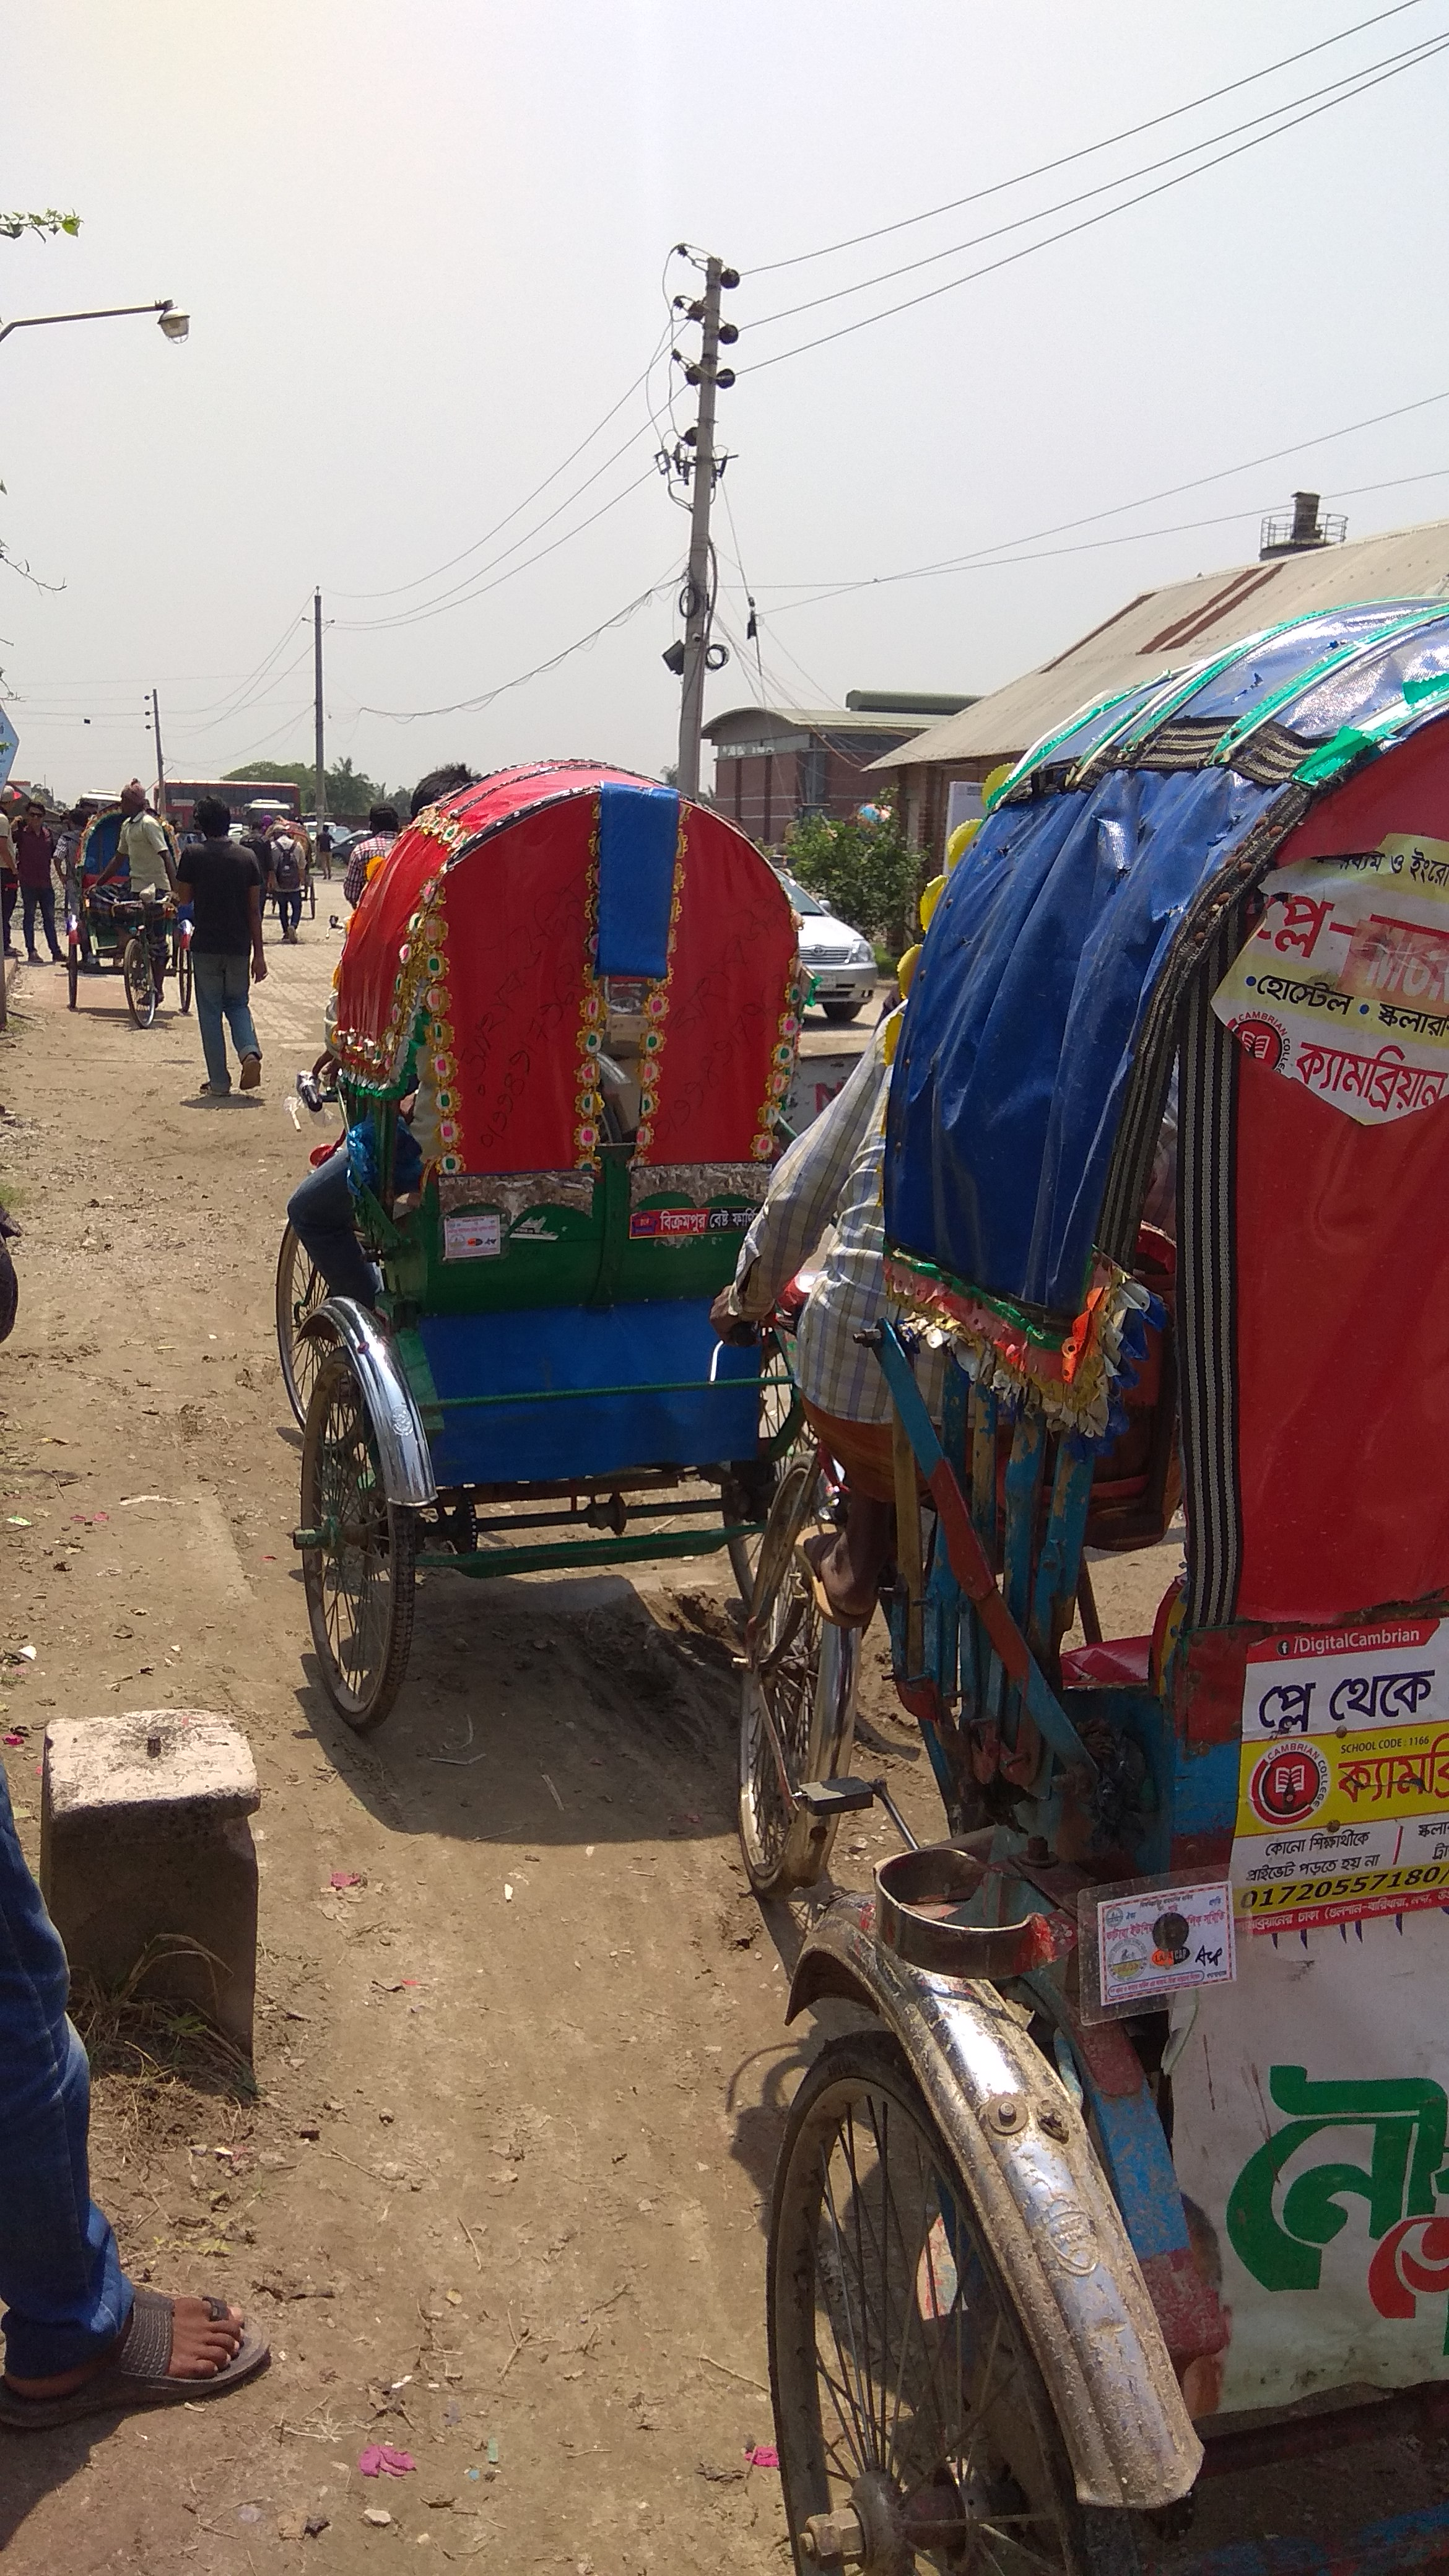Rickshaw: (786, 637, 1447, 2127), (269, 745, 860, 1769), (58, 761, 191, 1010)
